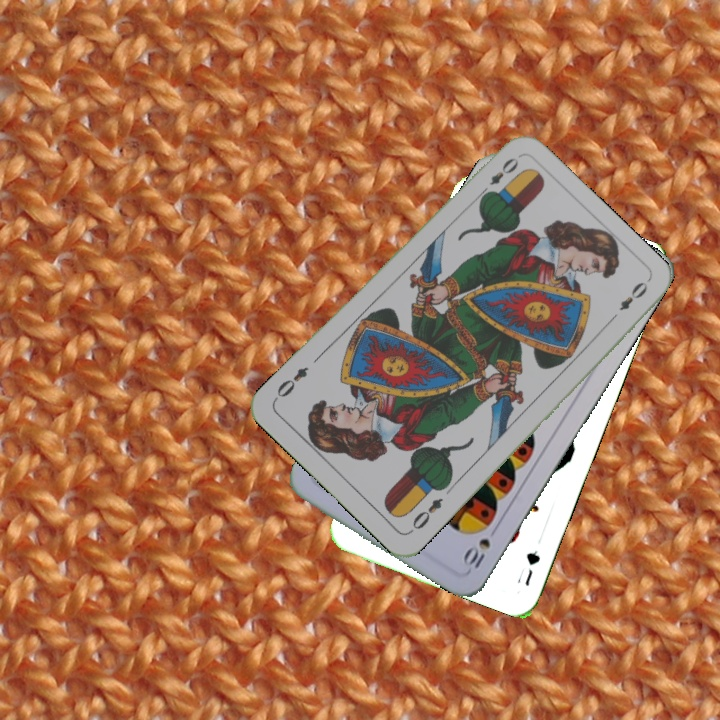EO: (475, 153, 522, 200), (406, 493, 446, 536)
GU: (512, 546, 543, 589)
S10: (459, 533, 493, 574)
